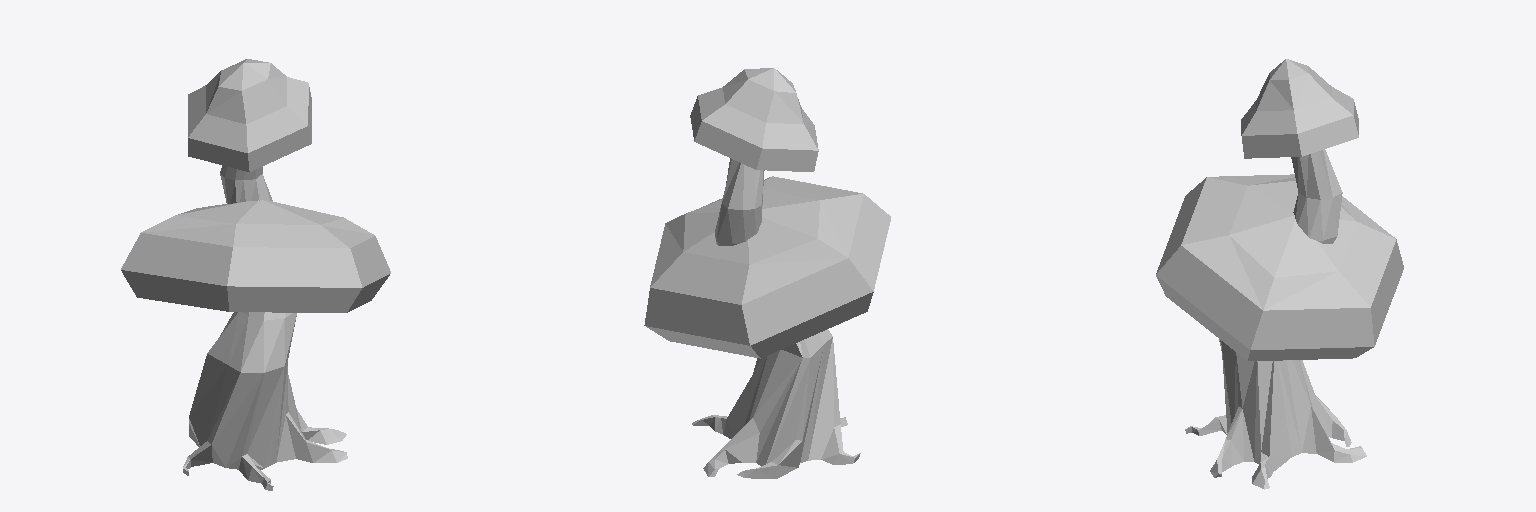
File: tree.obj
3 renders of one model, left to right at view 1: azimuth 30°, elevation 25°; view 2: azimuth 150°, elevation 25°; view 3: azimuth 270°, elevation 25°, orthographic.
Size of the model in its own units: 7.45 by 11.38 by 6.65.